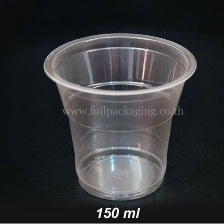glass: (32, 26, 213, 204)
